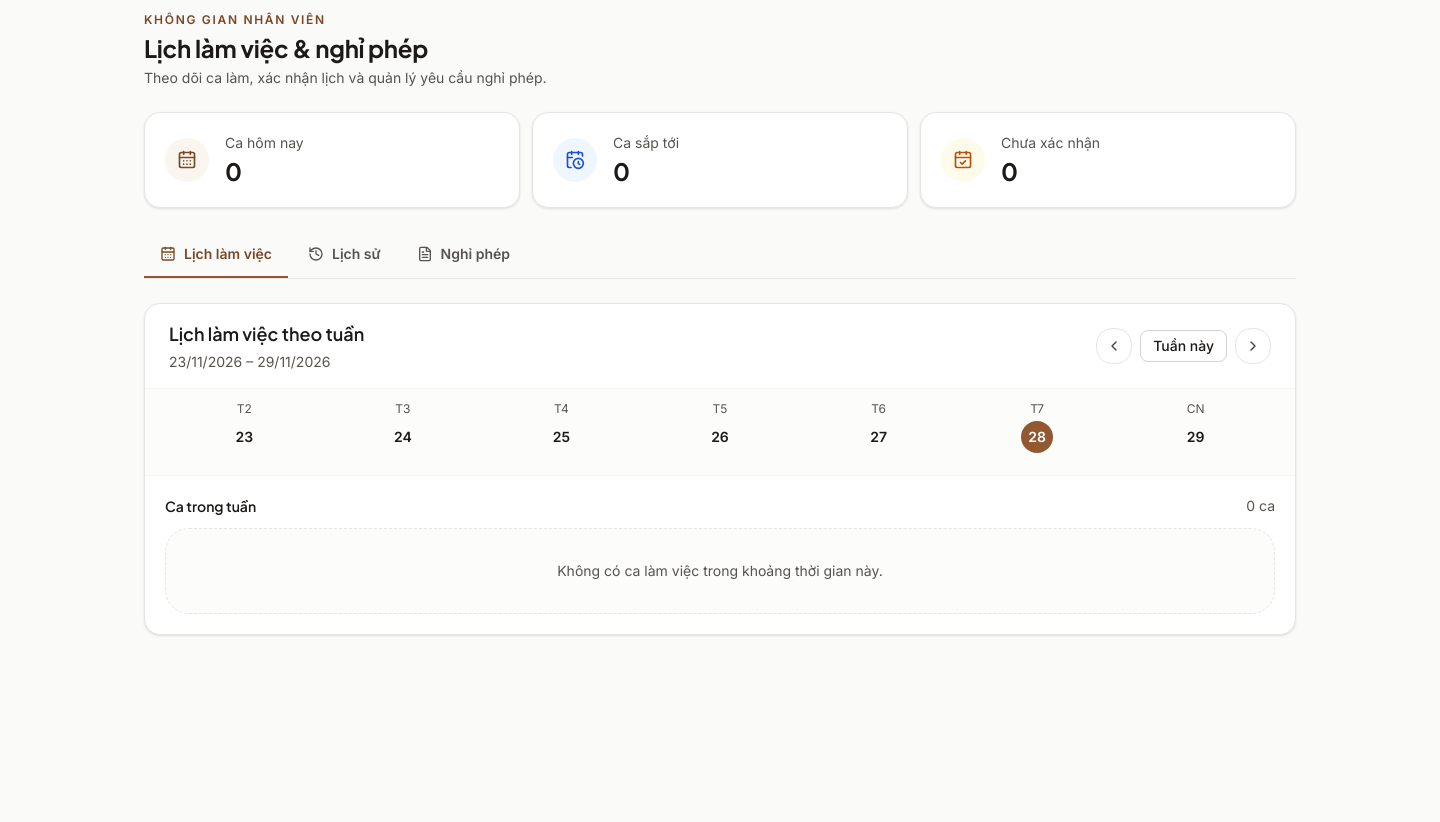
Scenario: Personal schedules › keeps history and leave requests accessible in their own sections
Expected: the heading "Ca trong tuần" is shown, [165, 496, 256, 516]
Step 1. Click the tab "Lịch sử" → (344, 255), box [292, 232, 397, 278]
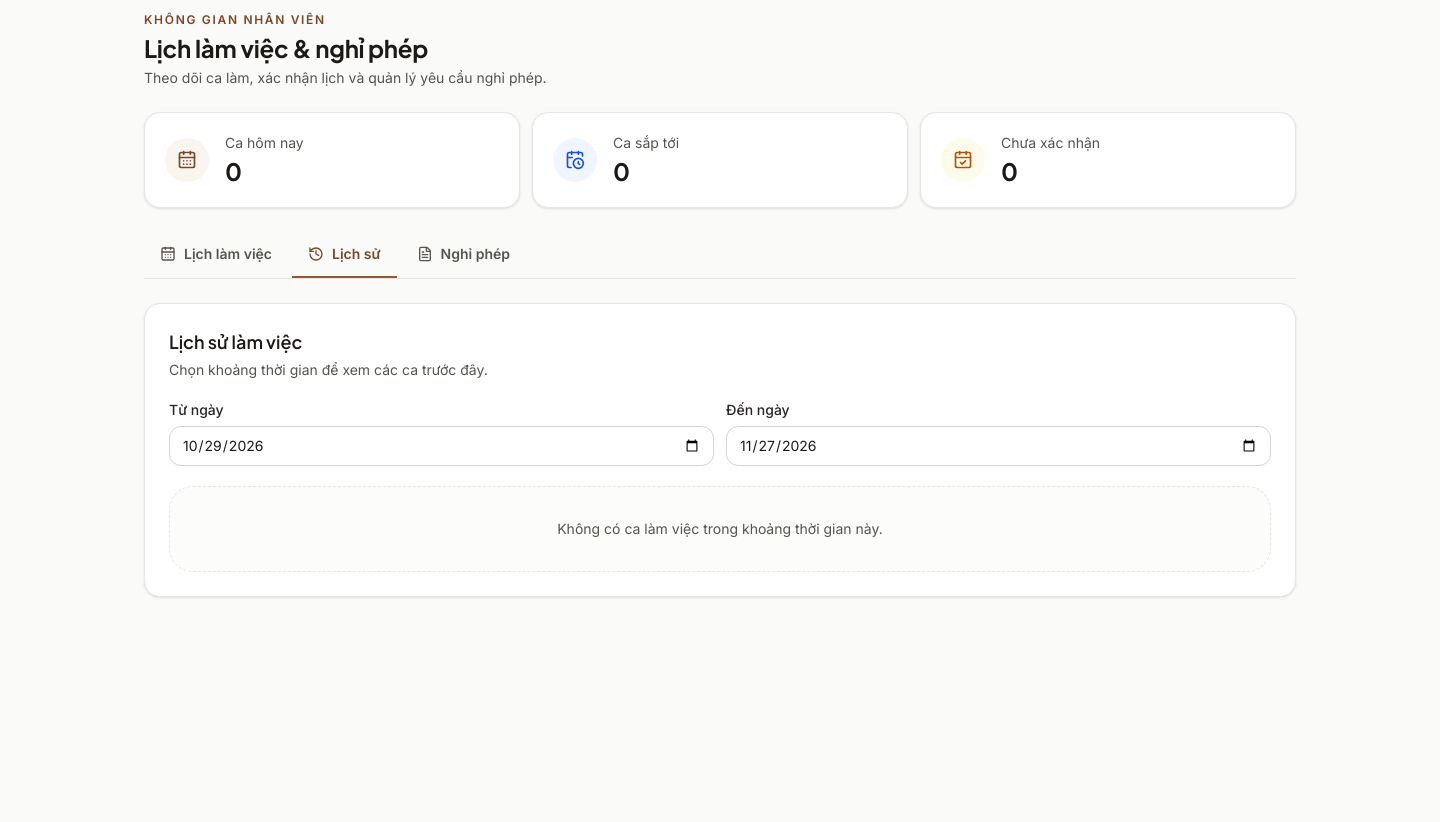
Result: the heading "Lịch sử làm việc" is shown at [169, 330, 302, 353]
Result: the date field labelled "Từ ngày" is shown at [169, 426, 714, 466]
Step 2. Click the tab "Nghỉ phép" → (463, 255), box [401, 232, 526, 278]
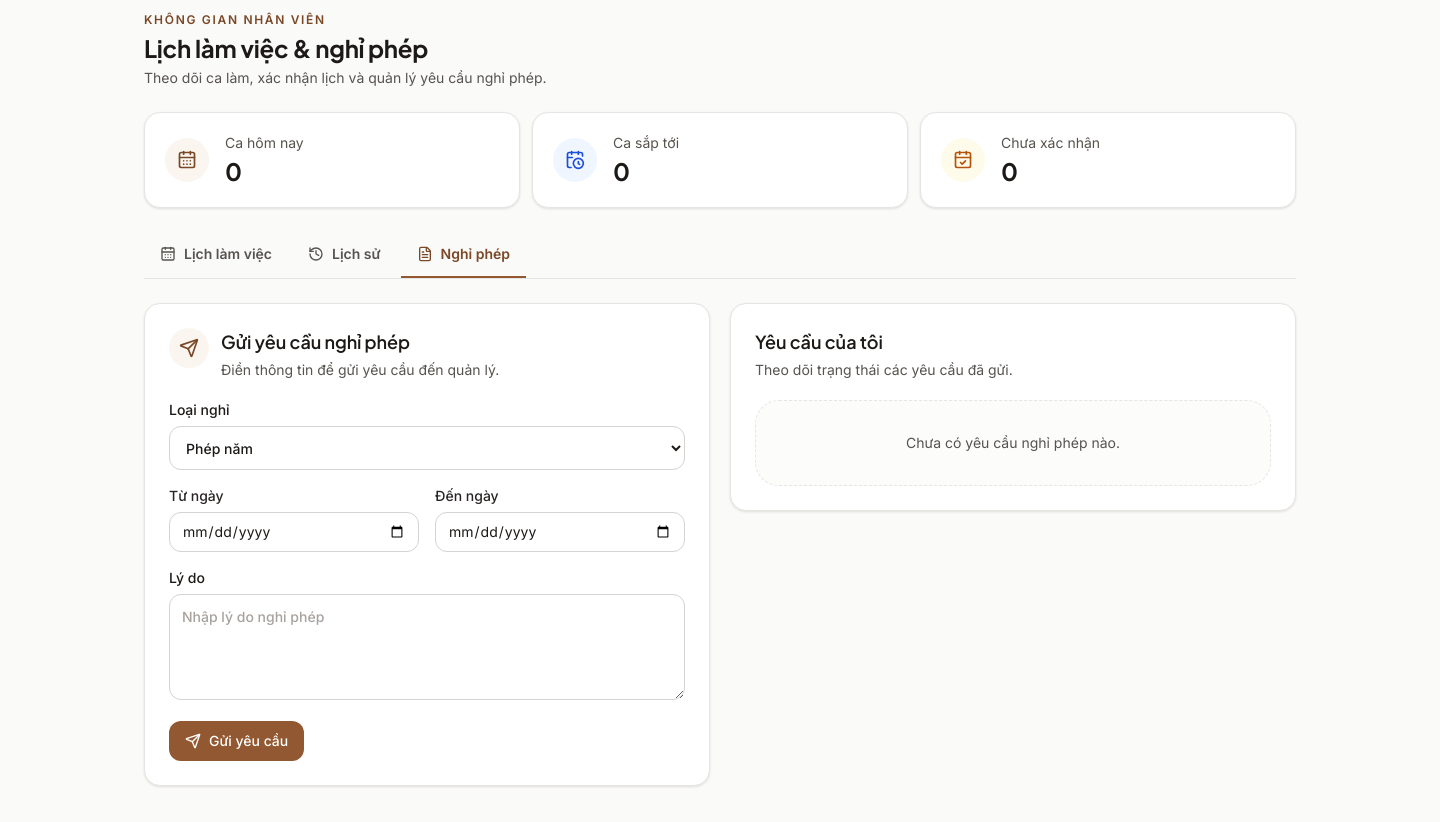
Result: the heading "Gửi yêu cầu nghỉ phép" is shown at [221, 330, 410, 353]
Result: the text "Chưa có yêu cầu nghỉ phép nào." is shown at [755, 400, 1271, 486]
